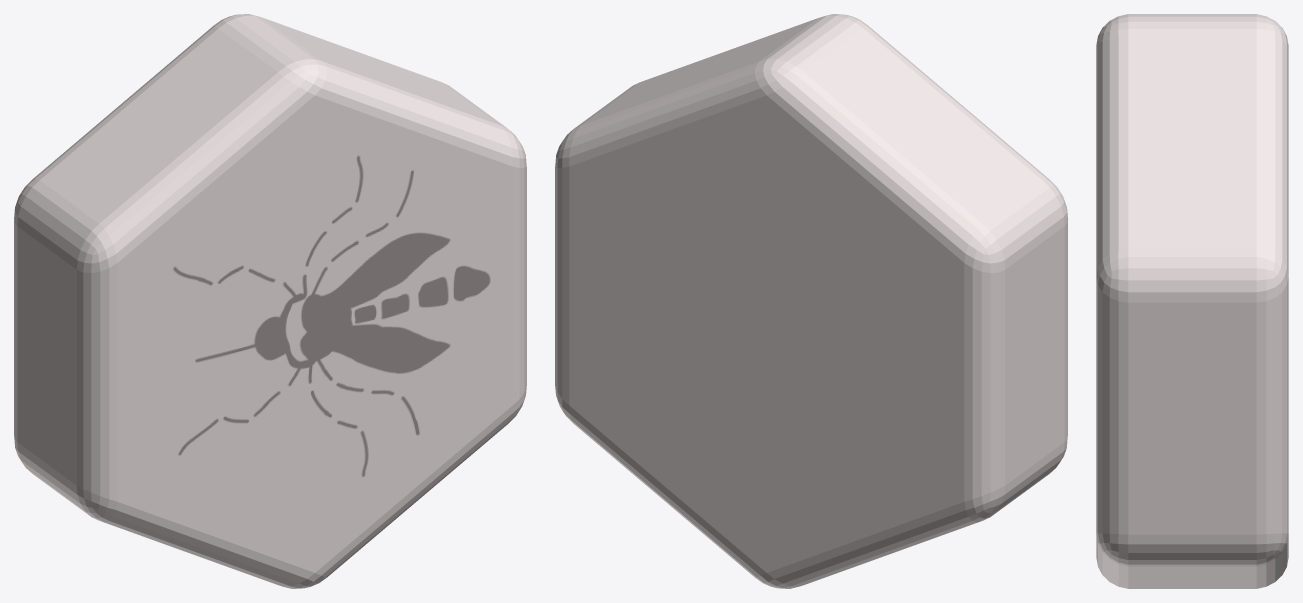
3 views of the same model, side by side, from view 1: azimuth 30°, elevation 25°; view 2: azimuth 150°, elevation 25°; view 3: azimuth 270°, elevation 25° (orthographic). The views are drawn at different scales.
Parts seen in each view (by area): view 1: wM; view 2: wM; view 3: wM.
Part boxes in pixels (x1=…): wM: x1=14, y1=14, x2=526, y2=588; wM: x1=555, y1=14, x2=1067, y2=588; wM: x1=1096, y1=14, x2=1288, y2=588.
Size of the model in its own units: 0.0866 by 0.0973 by 0.03.
1 material, 1 textured.
